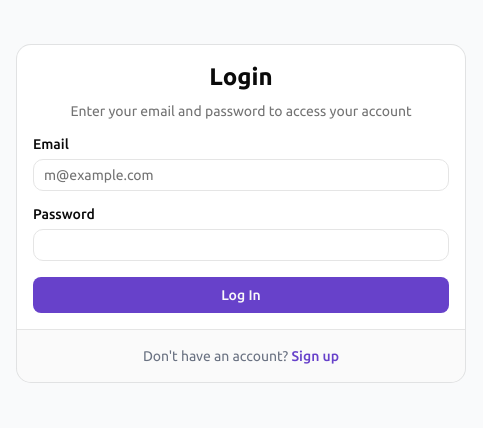
Scenario: LoginPage › shows validation errors for empty fields
What coordinates should you click on to do the following:
click the button "Log In"
I would click on:
 (241, 294)
Its box is 33,276 -> 449,312.
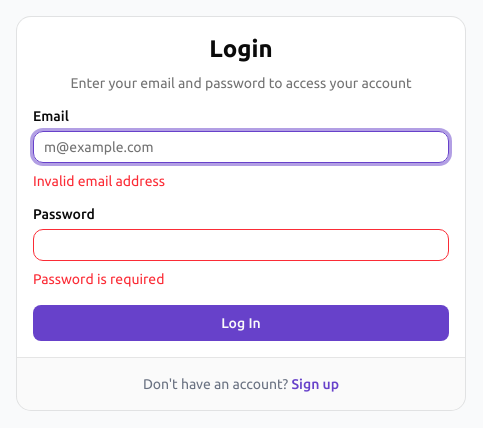
Expected: the text "Invalid email address" is shown, 33,172 -> 165,188
Expected: the text "Password is required" is shown, 33,270 -> 164,286
